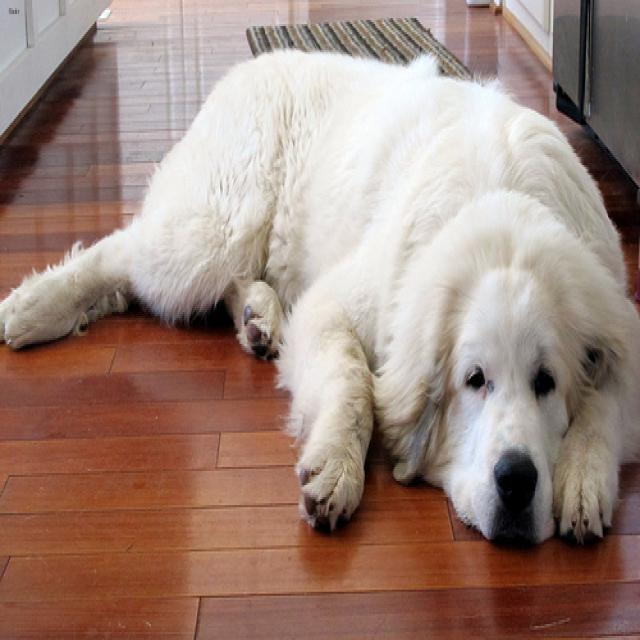dog-great_pyrenees: (1, 38, 637, 555)
